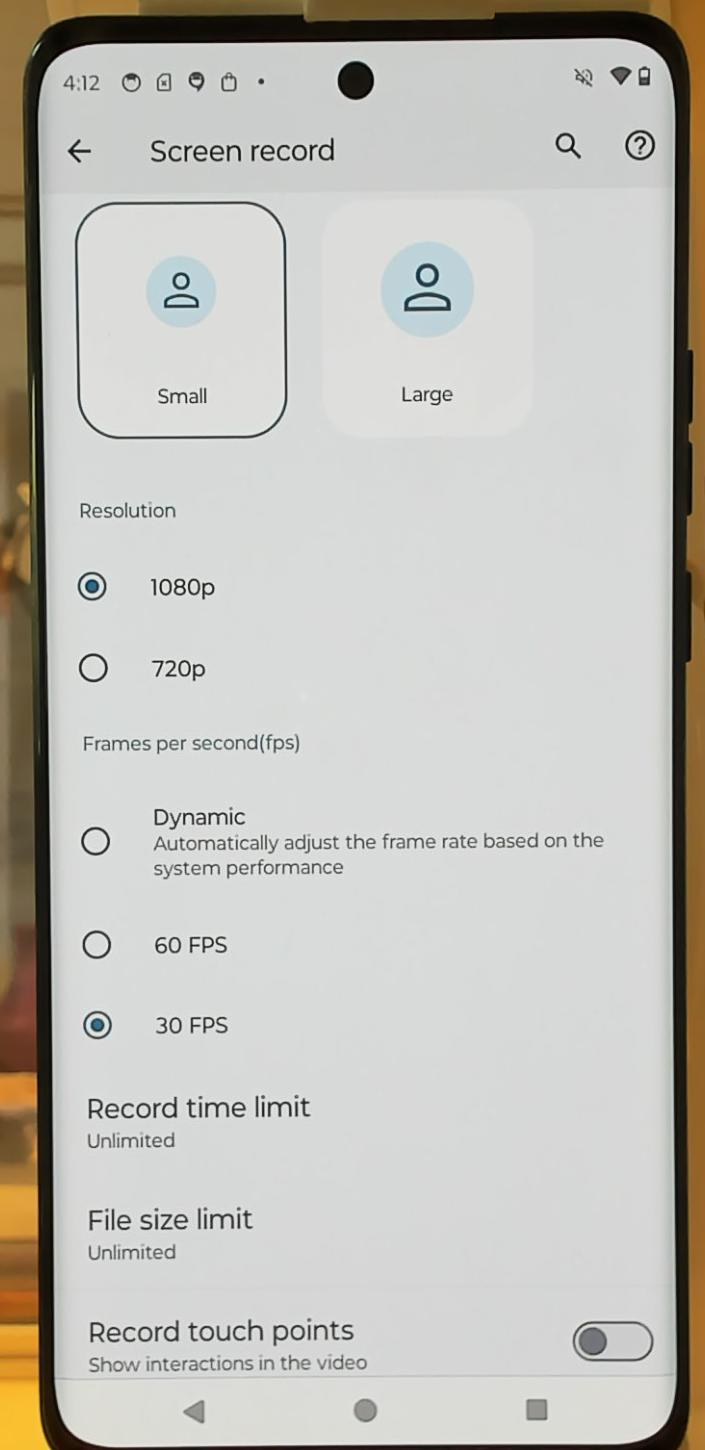Checkbox: (65, 1300, 666, 1377)
RadioButton: (65, 783, 621, 897), (70, 910, 241, 972), (65, 555, 232, 610), (70, 998, 241, 1050), (68, 641, 225, 695)
